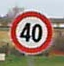limite 40: (8, 10, 54, 55)
